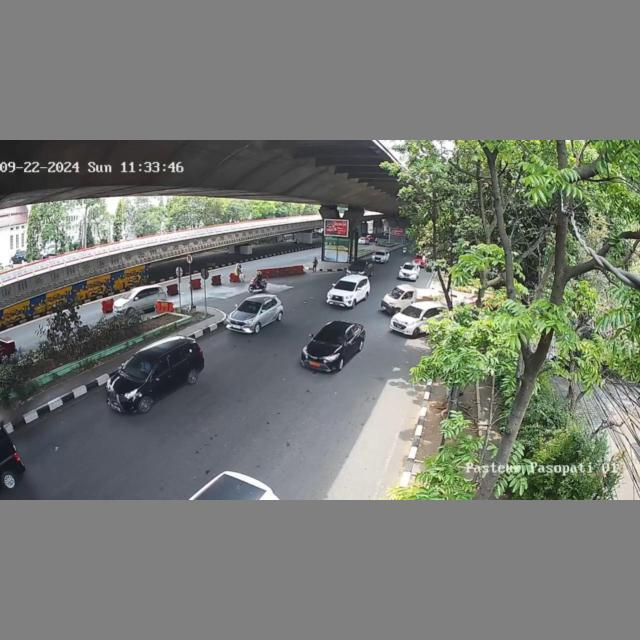windshield: (119, 356, 157, 380), (313, 328, 346, 346), (236, 301, 262, 314), (402, 305, 422, 318), (333, 280, 355, 291)
